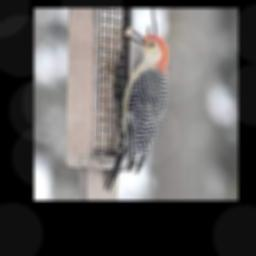Woodpecker: (104, 28, 167, 191)
